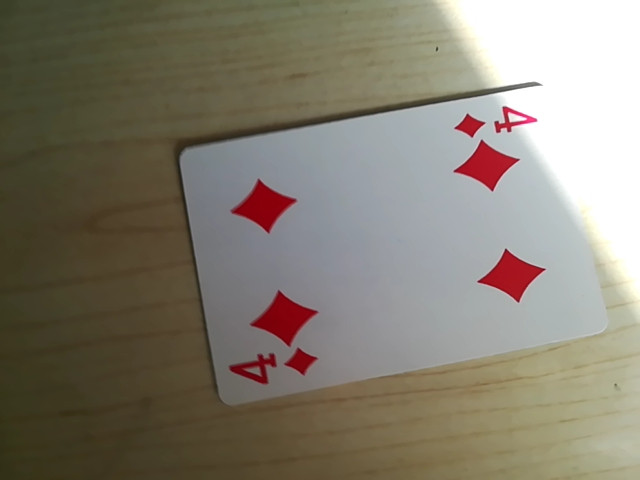fk 4: (224, 344, 323, 395), (456, 97, 546, 141)
